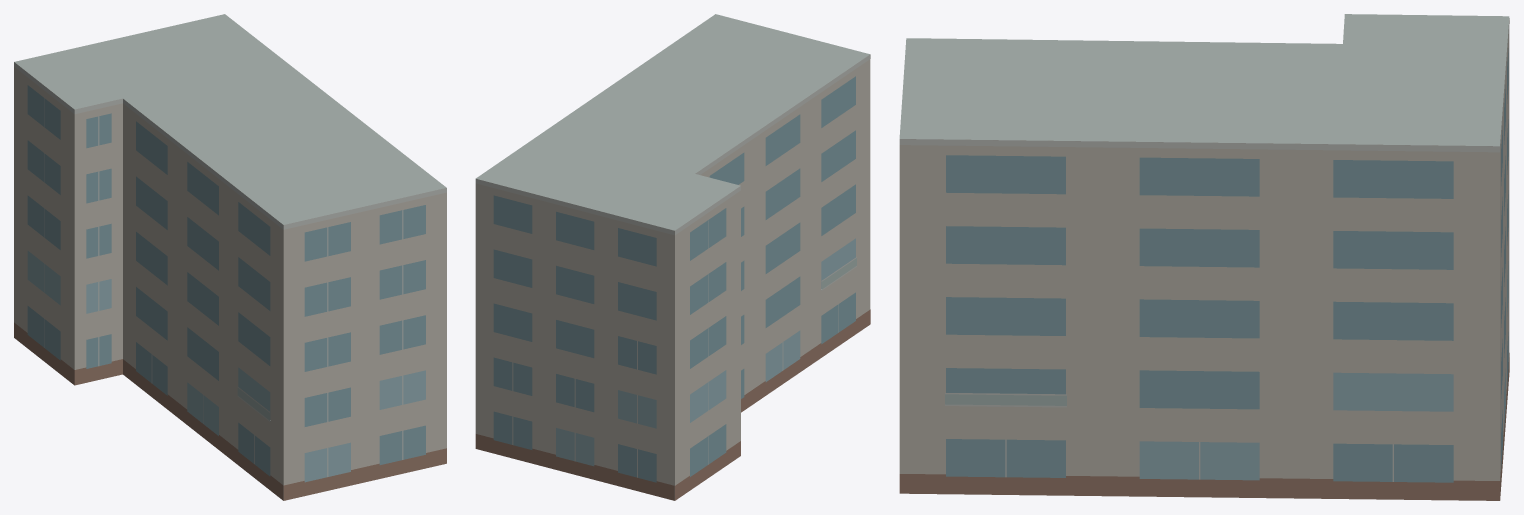
Rendered from survey-upis-32638053.glb.
3 views of the same model, side by side, from view 1: azimuth 30°, elevation 25°; view 2: azimuth 150°, elevation 25°; view 3: azimuth 270°, elevation 25° (orthographic). The views are drawn at different scales.
Parts seen in each view (by area): view 1: survey-upis-32638053.tmp; view 2: survey-upis-32638053.tmp; view 3: survey-upis-32638053.tmp.
Boxes of the visible parts, box(x1,y1,x2,y2) form: survey-upis-32638053.tmp: box(14, 14, 446, 500); survey-upis-32638053.tmp: box(475, 14, 870, 500); survey-upis-32638053.tmp: box(899, 14, 1509, 500).
Bounding box in the file's own units: 11.36 × 14.2 × 22.14.
